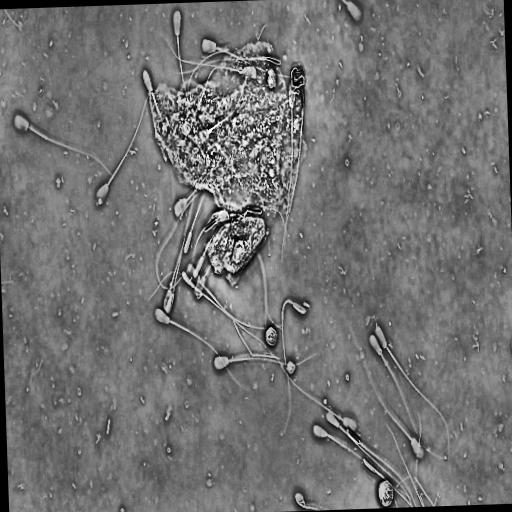dirt-particles: (134, 32, 310, 276), (376, 478, 397, 507), (263, 324, 277, 348), (285, 358, 296, 376)
folded-tail: (281, 299, 293, 435)
loose-tail: (384, 420, 425, 506)
normal: (373, 323, 453, 459), (367, 332, 445, 461), (152, 304, 251, 394), (91, 88, 153, 210), (181, 270, 271, 354), (12, 111, 115, 181), (275, 355, 358, 432), (280, 297, 306, 440), (312, 424, 374, 468), (211, 351, 319, 374)
